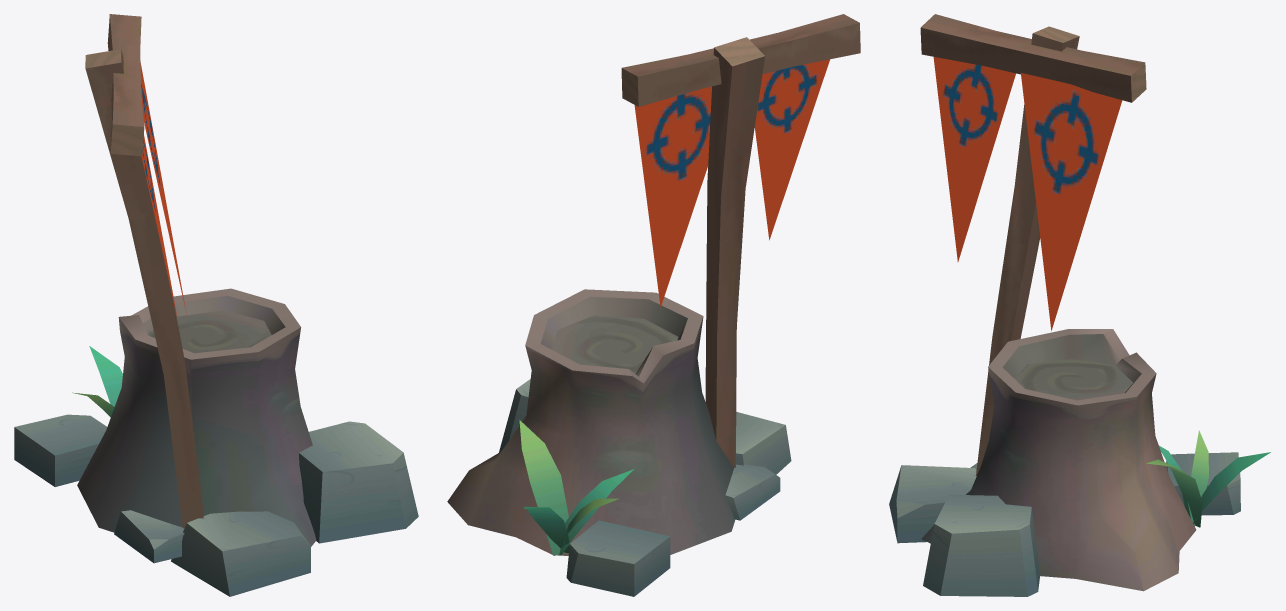
The model's file is Obstacle1B-002_02_05_0145.fbx.
3 views of the same model, side by side, from view 1: azimuth 30°, elevation 25°; view 2: azimuth 150°, elevation 25°; view 3: azimuth 270°, elevation 25° (orthographic). The views are drawn at different scales.
Visible parts, largest first — view 1: CornerTree1 (1), Wood1.002 (1), WoodTop (1), Flag1.001 (2), Flag1.001 (1); view 2: CornerTree1 (1), Wood1.002 (1), Flag1.001 (2), WoodTop (1), Flag1.001 (1); view 3: CornerTree1 (1), Flag1.001 (2), WoodTop (1), Flag1.001 (1), Wood1.002 (1).
Part boxes in pixels (x1=…): CornerTree1 (1): x1=14, y1=288, x2=418, y2=596; Wood1.002 (1): x1=85, y1=49, x2=203, y2=528; WoodTop (1): x1=107, y1=14, x2=144, y2=156; Flag1.001 (2): x1=140, y1=63, x2=186, y2=315; Flag1.001 (1): x1=141, y1=135, x2=177, y2=320; CornerTree1 (1): x1=447, y1=289, x2=791, y2=596; Wood1.002 (1): x1=705, y1=37, x2=765, y2=467; Flag1.001 (2): x1=634, y1=86, x2=711, y2=306; WoodTop (1): x1=621, y1=14, x2=860, y2=106; Flag1.001 (1): x1=754, y1=59, x2=829, y2=240; CornerTree1 (1): x1=889, y1=329, x2=1270, y2=596; Flag1.001 (2): x1=1021, y1=73, x2=1122, y2=330; WoodTop (1): x1=920, y1=14, x2=1146, y2=102; Flag1.001 (1): x1=933, y1=57, x2=1015, y2=261; Wood1.002 (1): x1=976, y1=26, x2=1079, y2=475.
Size of the model in its own units: 2.58 by 3.83 by 2.92.
